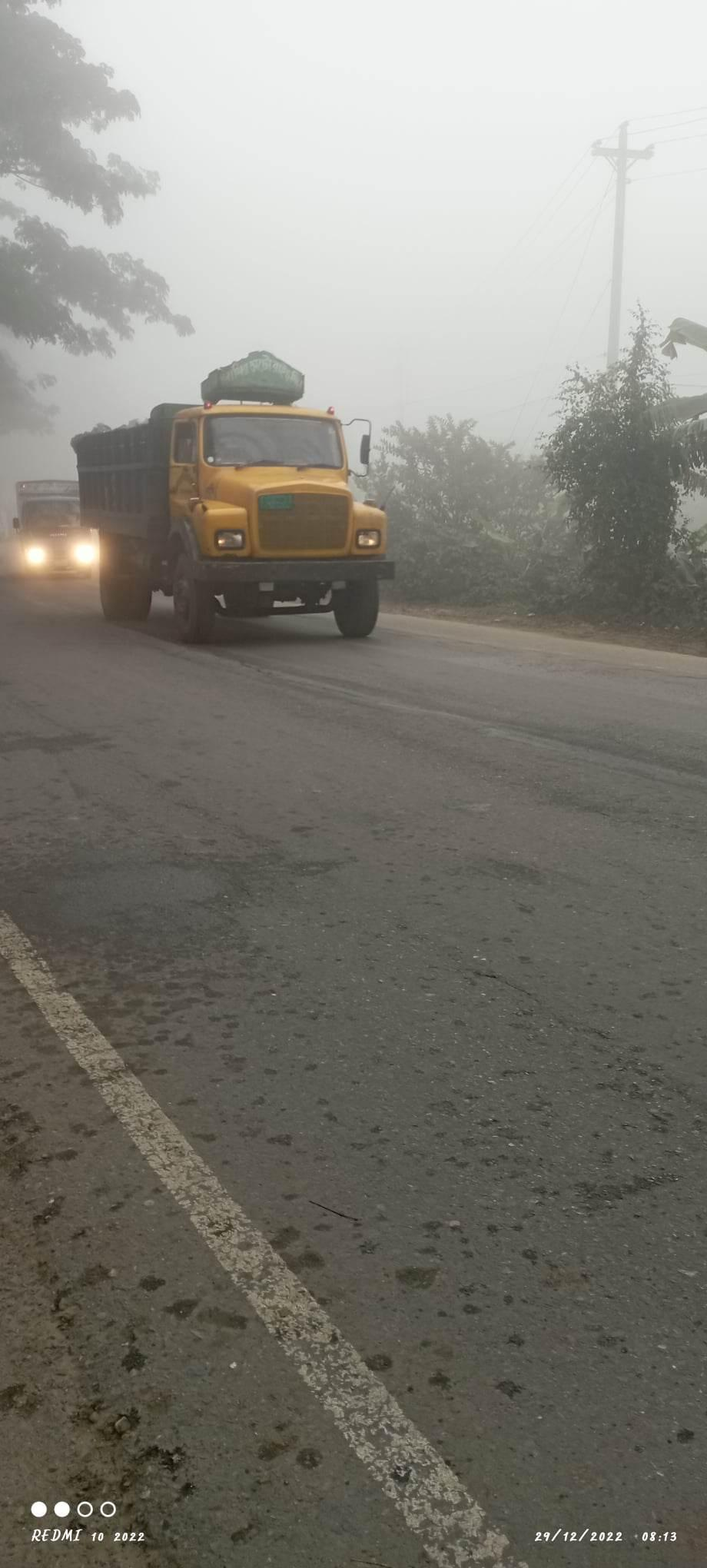Truck: (67, 346, 417, 639), (9, 458, 108, 600)
